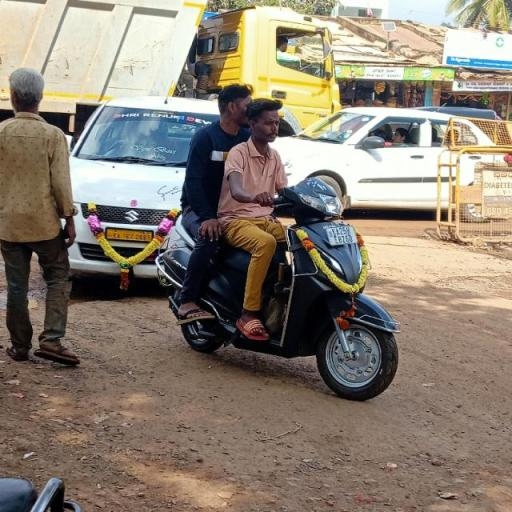bike: (150, 81, 408, 407)
numberplate: (322, 220, 362, 250)
withouthelmet: (254, 98, 280, 143), (220, 86, 250, 124)
